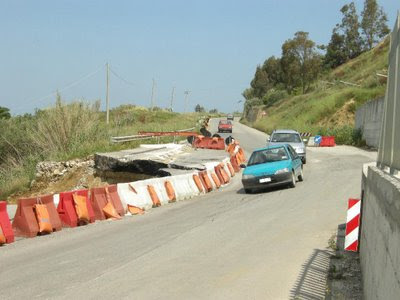car: (233, 143, 302, 189), (269, 129, 309, 159), (213, 118, 236, 132)
